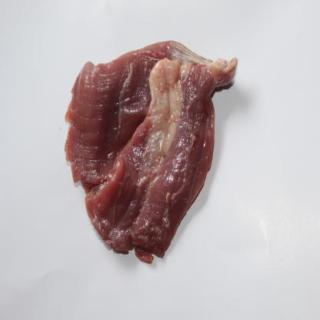Daging Sapi: (66, 40, 238, 263)
